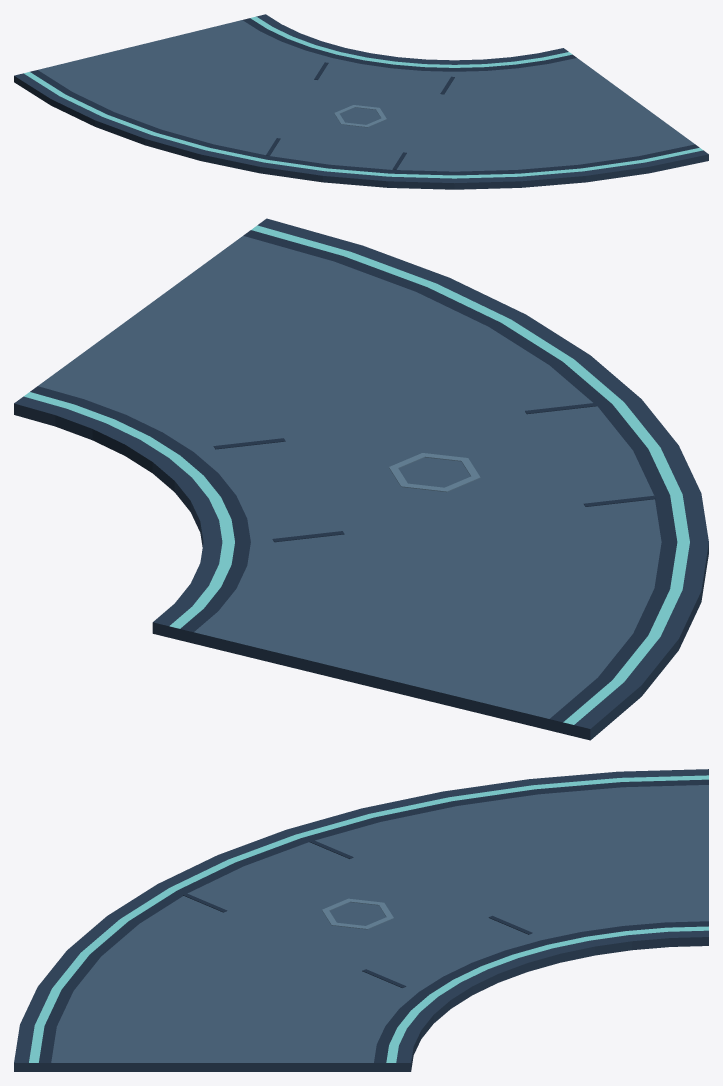
Rendered from campus_walk_bend_v01.glb.
The picture shows the model from 3 angles, top to bottom: view 1: azimuth 30°, elevation 25°; view 2: azimuth 150°, elevation 25°; view 3: azimuth 270°, elevation 25°; orthographic projection. The views are drawn at different scales.
Visible parts, largest first — view 1: campus_walk_bend; view 2: campus_walk_bend; view 3: campus_walk_bend.
Boxes of the visible parts, x1,y1,x2,y2 form: campus_walk_bend: [14, 14, 708, 189]; campus_walk_bend: [14, 218, 708, 740]; campus_walk_bend: [14, 769, 708, 1071].
Bounding box in the file's own units: 5.6 × 0.086 × 5.6.
Materials: 1 (1 with a texture image).
